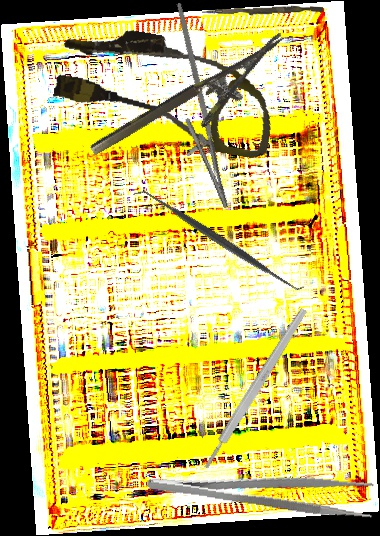Cannula: (48, 18, 284, 161)
Dressing Forceps: (144, 454, 378, 522)
Needle Holder: (87, 32, 303, 182), (136, 2, 254, 214)
Pusher: (201, 3, 324, 19)
Scalpel Handle: (201, 306, 309, 471)
Spatula Surgical: (131, 177, 307, 303)
